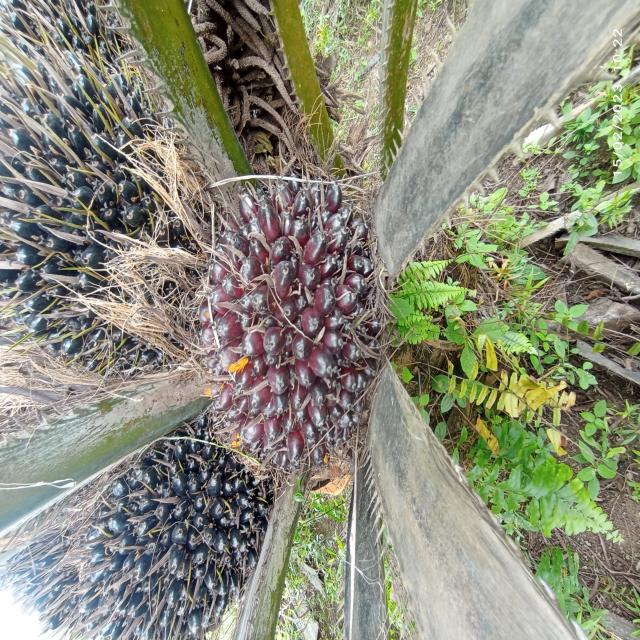fraksi 00: (0, 23, 237, 414), (39, 414, 284, 640)
fraksi 1: (133, 137, 440, 503)
